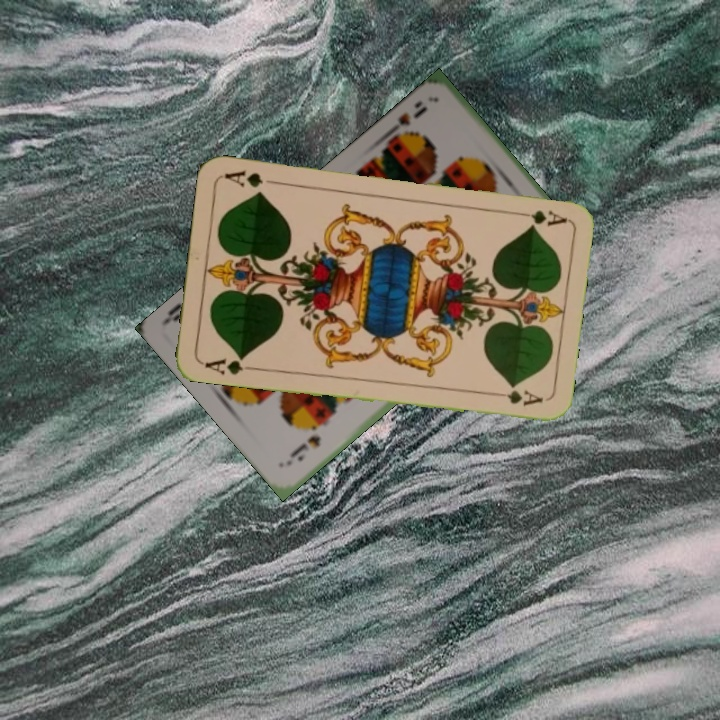GA: (201, 351, 258, 377), (509, 206, 569, 229)
S9: (382, 102, 430, 141), (293, 431, 324, 464)
